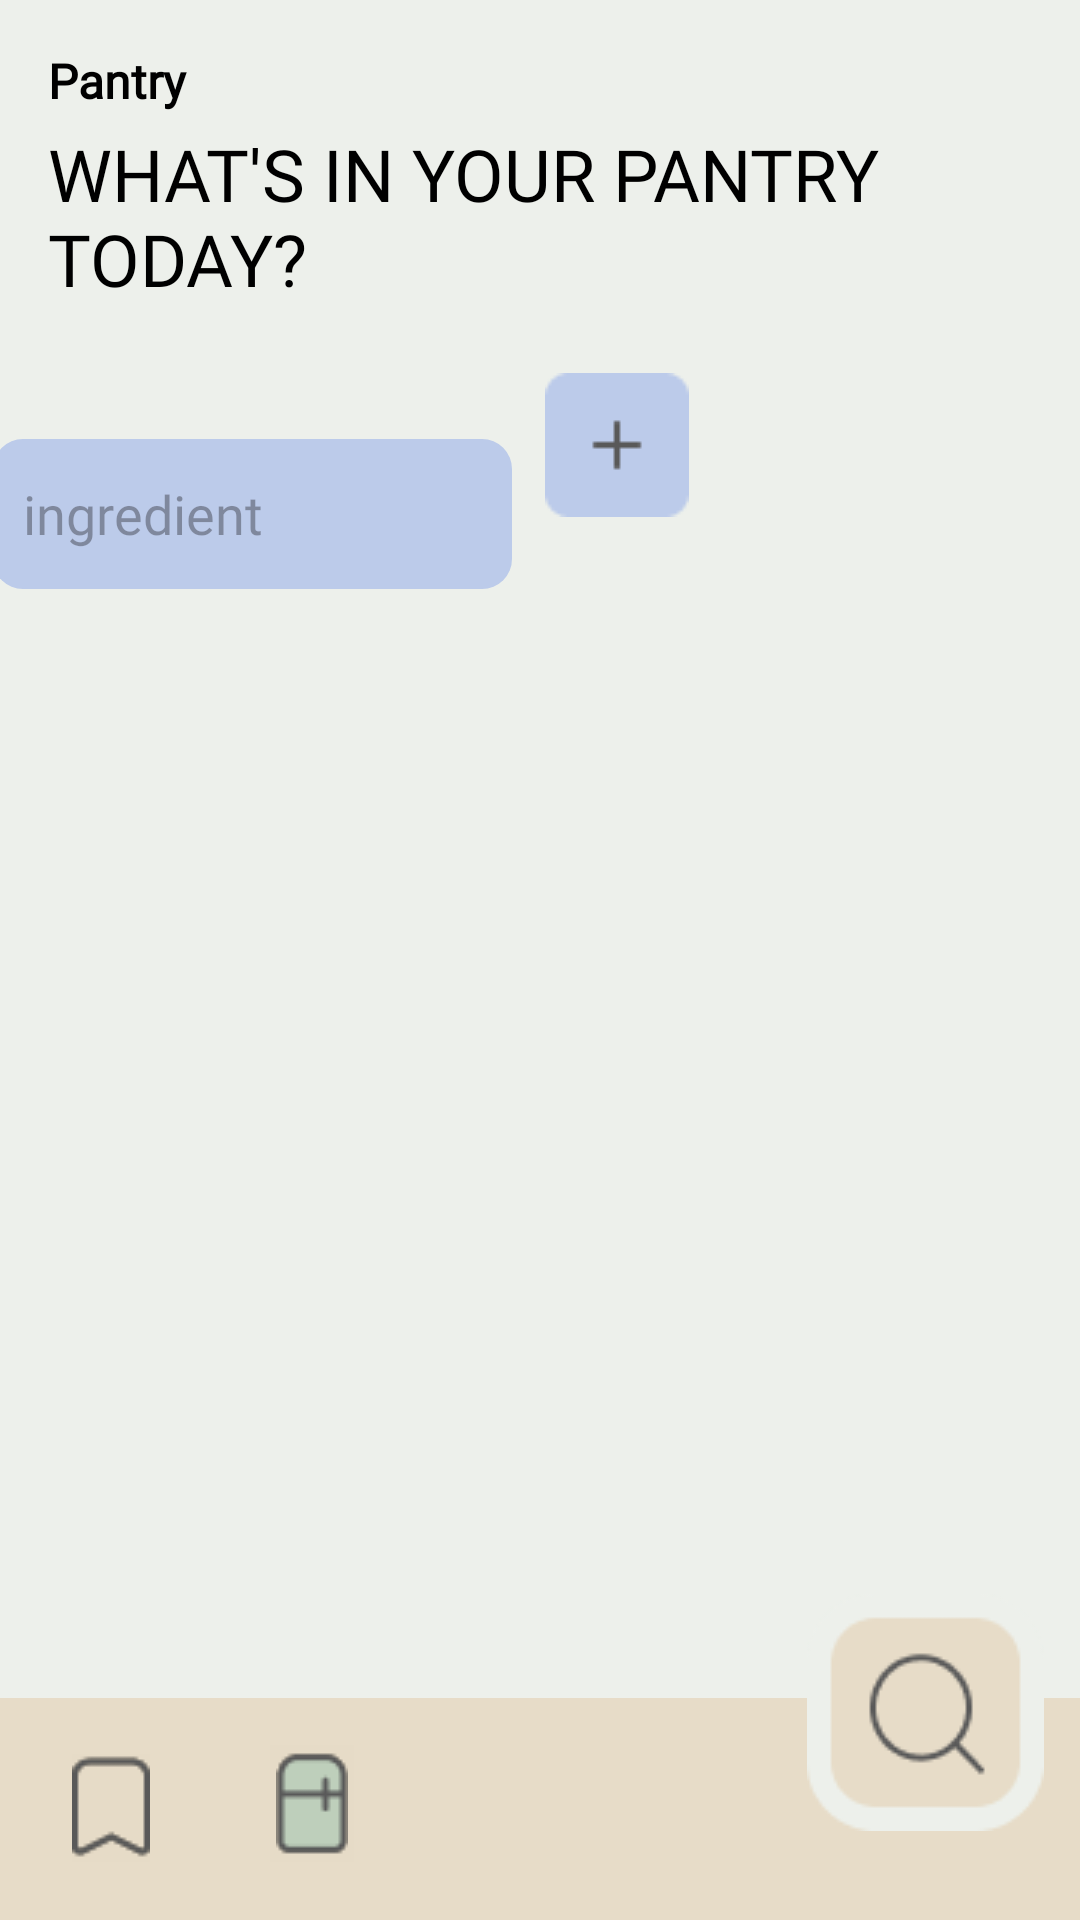

Icons on this 1080×1920 Android screen, each with the point to tap as (x,y):
add: (617,445)
favs off: (111,1806)
pantry on: (312,1803)
search bar: (925,1712)
